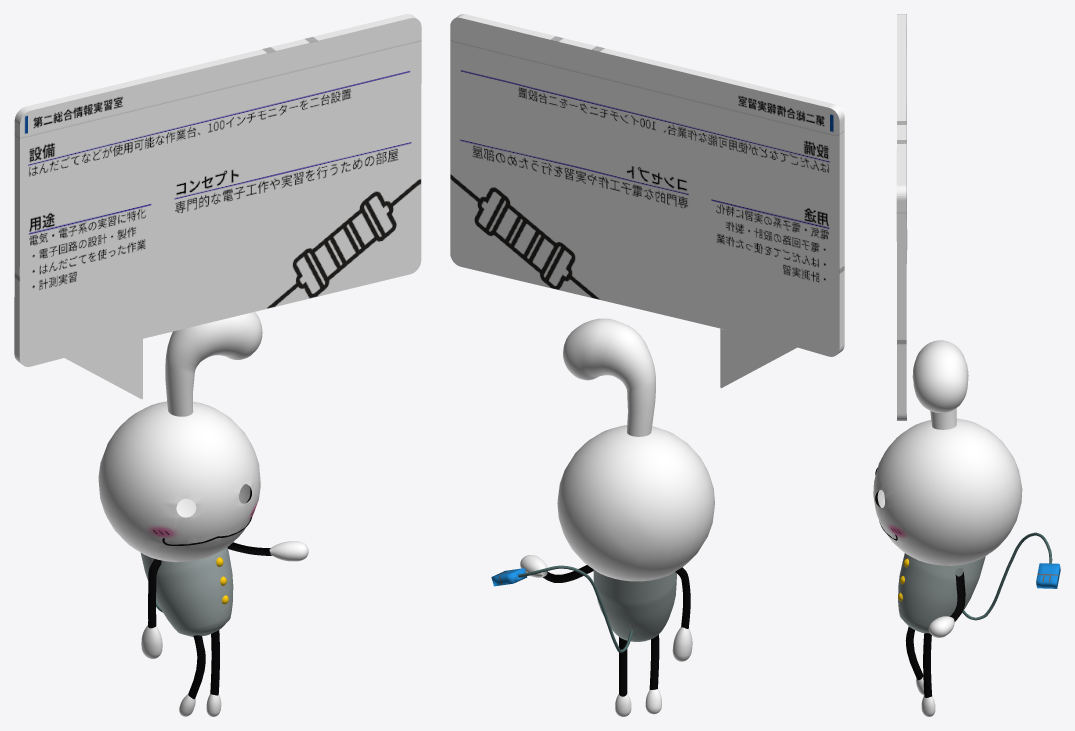
Rendered from second.glb.
The picture shows the model from 3 angles, left to right: view 1: azimuth 30°, elevation 25°; view 2: azimuth 150°, elevation 25°; view 3: azimuth 270°, elevation 25°; orthographic projection. The views are drawn at different scales.
Parts seen in each view (by area): view 1: 吹き出し１, 頭, 胴, 触覚, 吹き出し２, 左拳; view 2: 吹き出し１, 頭, 触覚, 胴, 吹き出し２, 尻尾; view 3: 頭, 吹き出し１, 胴, 触覚, マウス, 尻尾, 左脚, 左拳, 右脚, 左腕.
Boxes of the visible parts, x1,y1,x2,y2 form: 吹き出し１: (14, 14, 421, 366); 頭: (98, 401, 260, 562); 胴: (140, 547, 233, 636); 触覚: (165, 312, 262, 416); 吹き出し２: (64, 339, 142, 399); 左拳: (269, 541, 308, 561); 吹き出し１: (450, 14, 844, 356); 頭: (557, 425, 714, 581); 触覚: (563, 318, 655, 436); 胴: (593, 570, 676, 641); 吹き出し２: (720, 328, 797, 388); 尻尾: (518, 565, 633, 652); 頭: (873, 418, 1022, 565); 吹き出し１: (896, 14, 907, 420); 胴: (898, 553, 985, 633); 触覚: (912, 340, 968, 429); マウス: (1036, 563, 1060, 588); 尻尾: (962, 532, 1052, 620); 左脚: (923, 633, 932, 697); 左拳: (928, 616, 954, 637); 右脚: (905, 626, 923, 680); 左腕: (950, 572, 965, 621).
Size of the model in its own units: 14.43 by 22.91 by 6.36.
12 materials, 2 textured.
